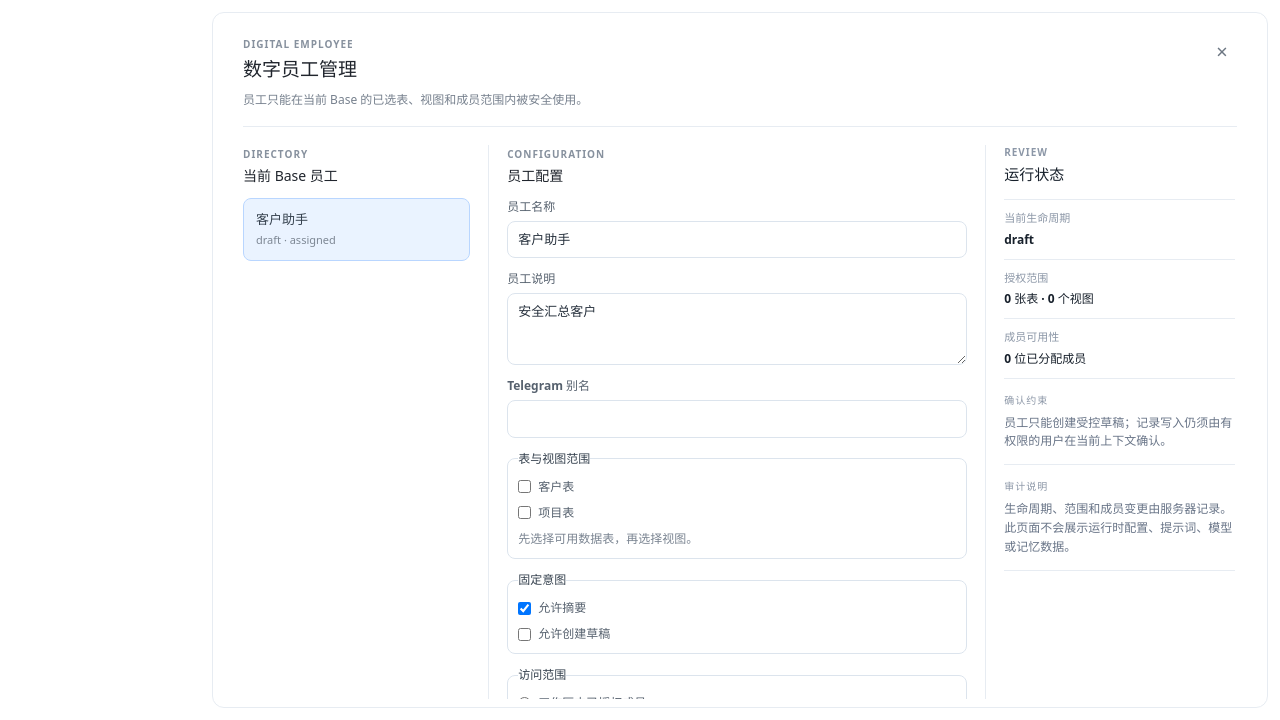
Test: renders only bounded employee management controls and filters views by selected table
Expected: the field labelled "员工名称" is shown, [507, 220, 967, 258]
Expected: the text box labelled "员工说明" is shown, [507, 293, 967, 365]
Click the checkbox named "范围表 客户表" at (525, 486), box [518, 480, 531, 493]
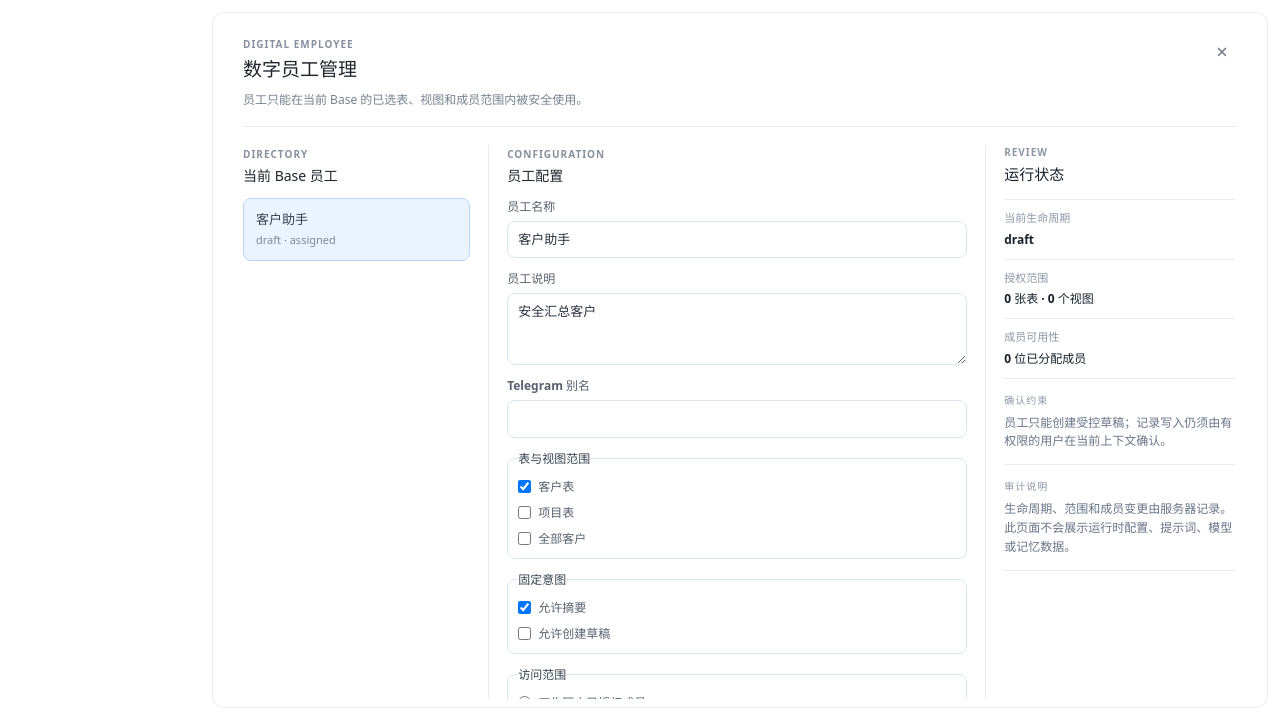
Expected: the checkbox named "范围视图 全部客户" is shown, [518, 532, 531, 545]
